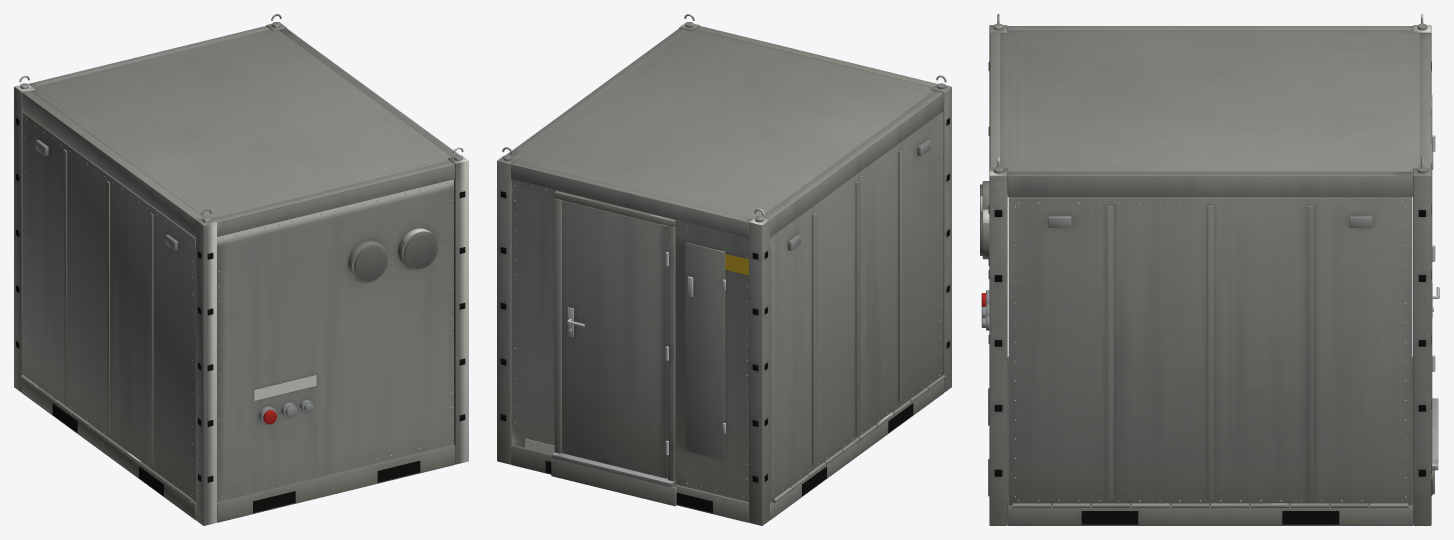
Rendered from ateps-stowed.glb.
The picture shows the model from 3 angles, left to right: view 1: azimuth 30°, elevation 25°; view 2: azimuth 150°, elevation 25°; view 3: azimuth 270°, elevation 25°; orthographic projection. The views are drawn at different scales.
Visible parts, largest first — view 1: ATEPS_core, ATEPS_side_wall_L; view 2: ATEPS_core, ATEPS_side_wall_L; view 3: ATEPS_side_wall_R, ATEPS_core.
Part boxes in pixels (<box>): ATEPS_core: <box>14,14,468,525</box>; ATEPS_side_wall_L: <box>20,112,195,502</box>; ATEPS_core: <box>497,14,951,525</box>; ATEPS_side_wall_L: <box>770,112,945,502</box>; ATEPS_side_wall_R: <box>1008,197,1412,507</box>; ATEPS_core: <box>980,14,1439,525</box>.
Bounding box in the file's own units: 2.19 × 2.4 × 2.75.
12 materials, 4 textured.
